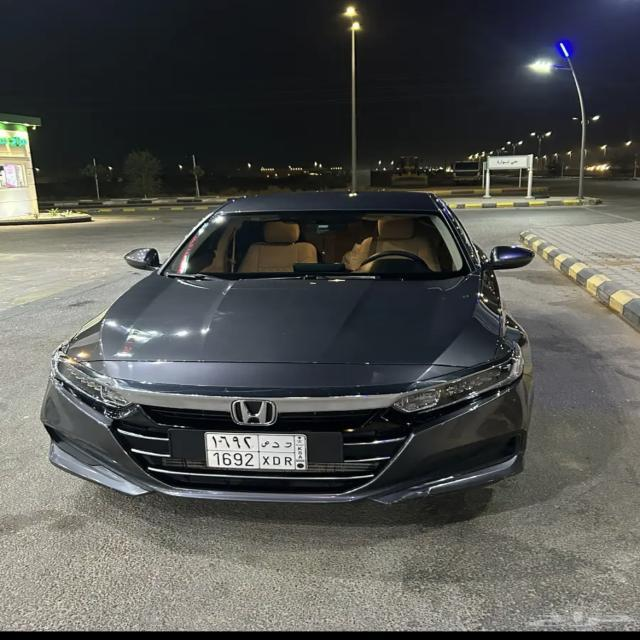license_plate: (204, 431, 306, 469)
